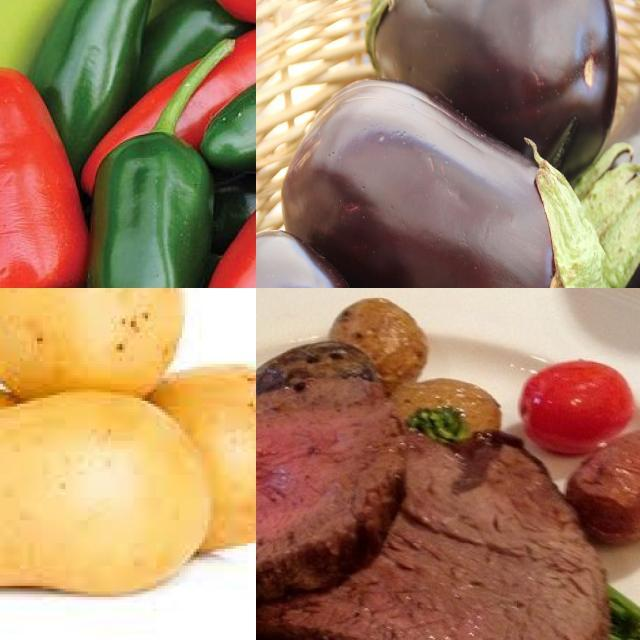eggplant: (280, 82, 597, 289), (363, 1, 620, 178), (568, 45, 640, 289)
potato: (1, 396, 209, 596), (147, 365, 257, 556), (1, 289, 187, 395)
tomato: (521, 351, 637, 457)
